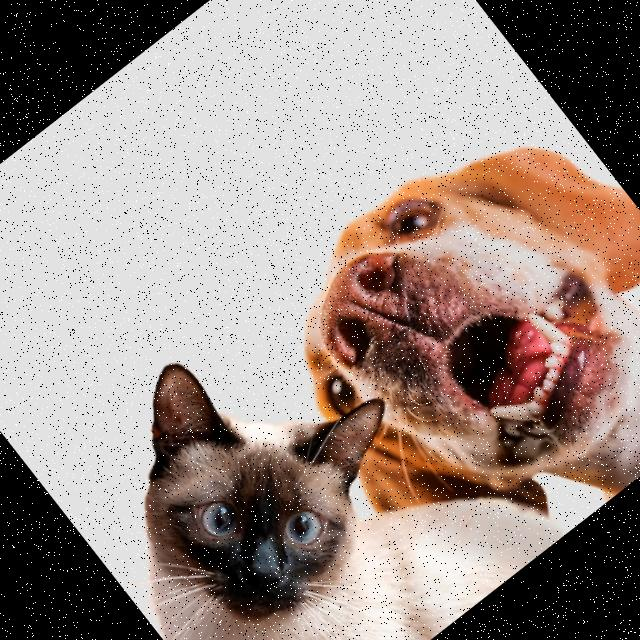Dog: (228, 75, 640, 615)
